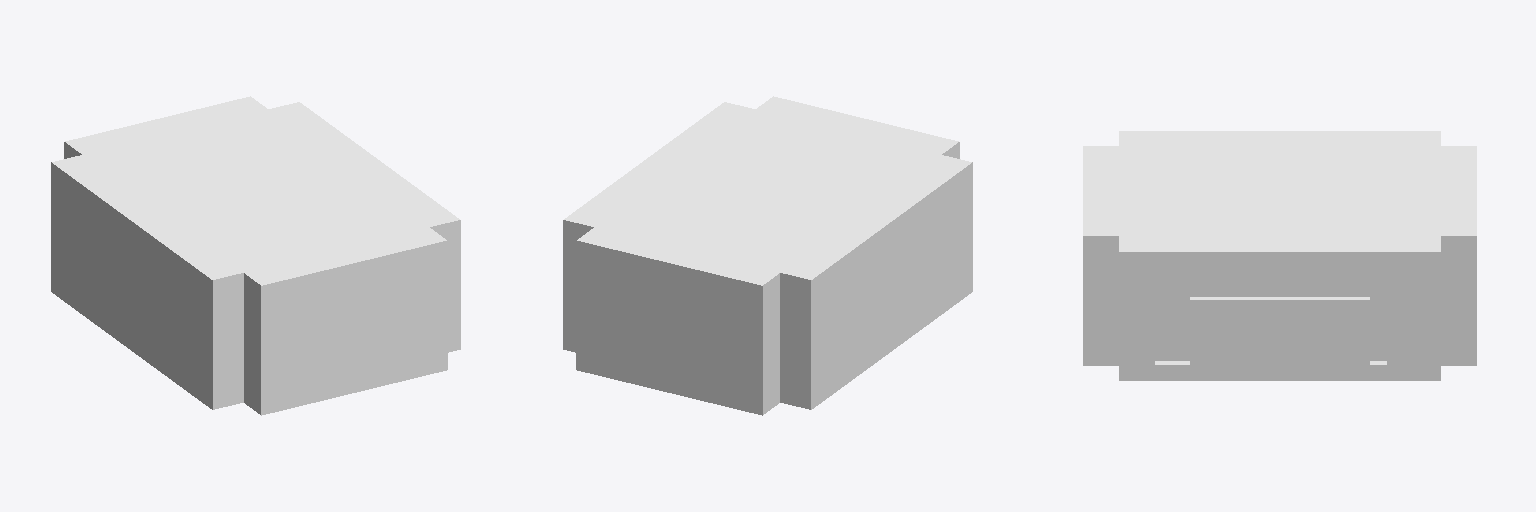
File: whiteBox.obj
The picture shows the model from 3 angles: view 1: azimuth 30°, elevation 25°; view 2: azimuth 150°, elevation 25°; view 3: azimuth 270°, elevation 25°; orthographic projection.
Parts seen in each view (by area): view 1: object 1; view 2: object 1; view 3: object 1.
Part boxes in pixels (left/top/right/bottom): object 1: left=51, top=96, right=460, bottom=415; object 1: left=563, top=96, right=972, bottom=415; object 1: left=1083, top=131, right=1476, bottom=380.
Size of the model in its own units: 3.2 by 1.6 by 4.4.